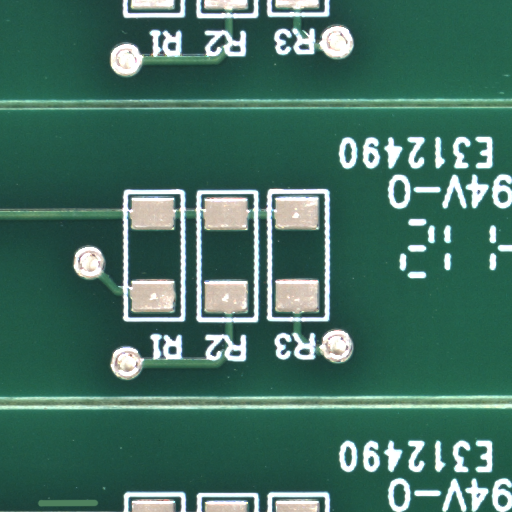Spurious_copper: (68, 502, 129, 512)
